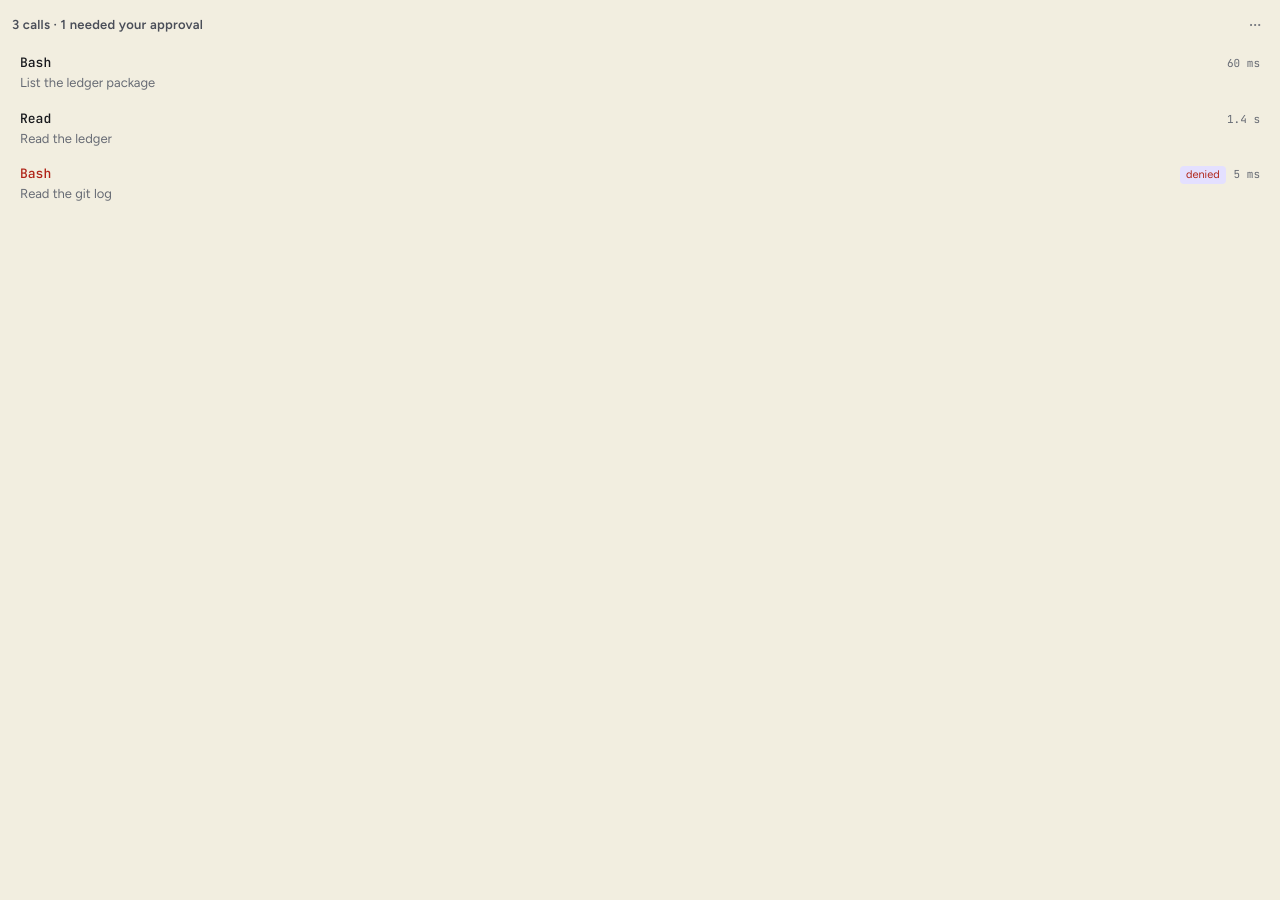
Test: the tools pane › opens the row into a drawer with the input and the output
Click the button "Bash List the ledger package 60 ms" at {"x": 36, "y": 62}, box [12,46,1268,101]
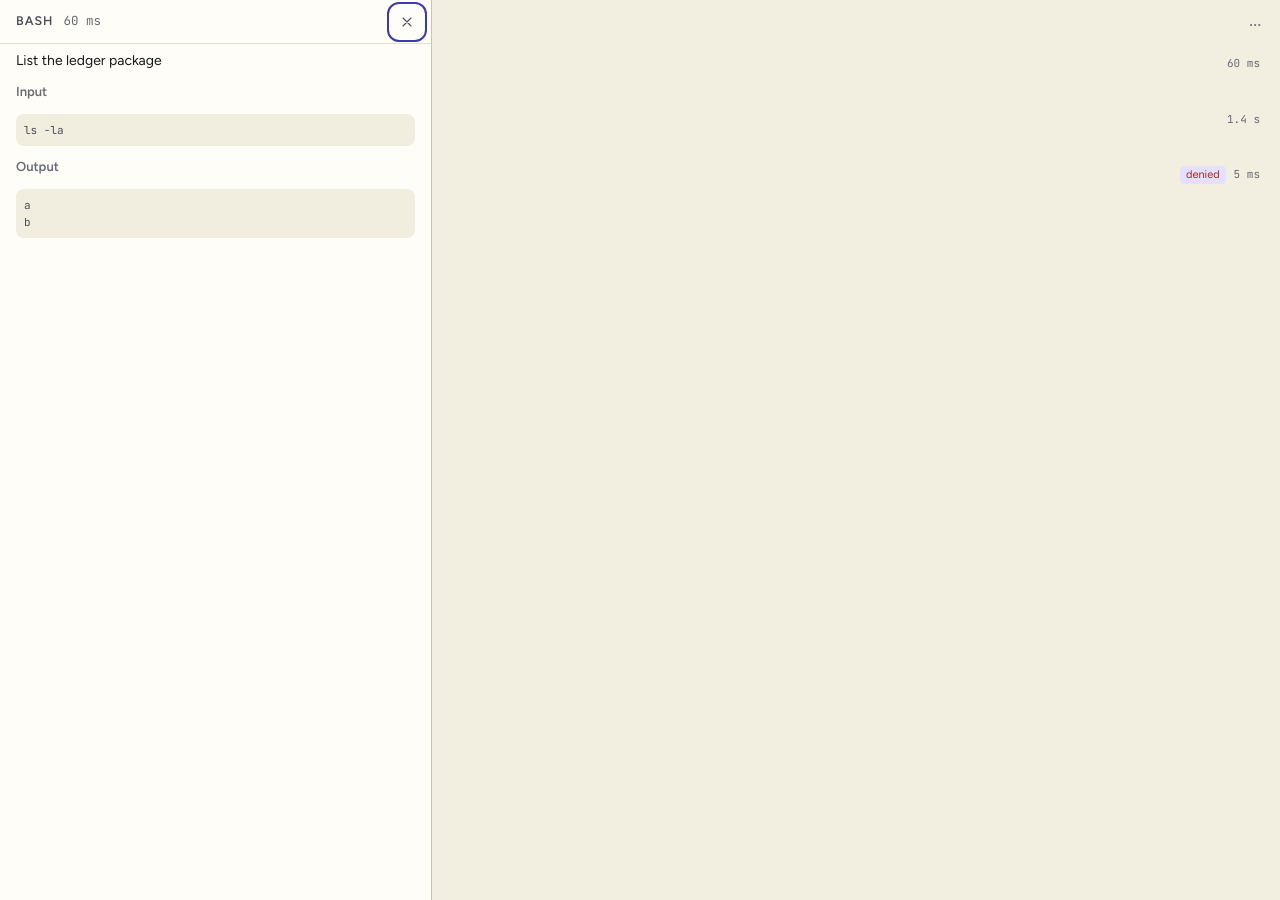
Expected: the heading "Input" is shown, [16,84,47,99]
Expected: the text "ls -la" is shown, [16,114,415,146]
